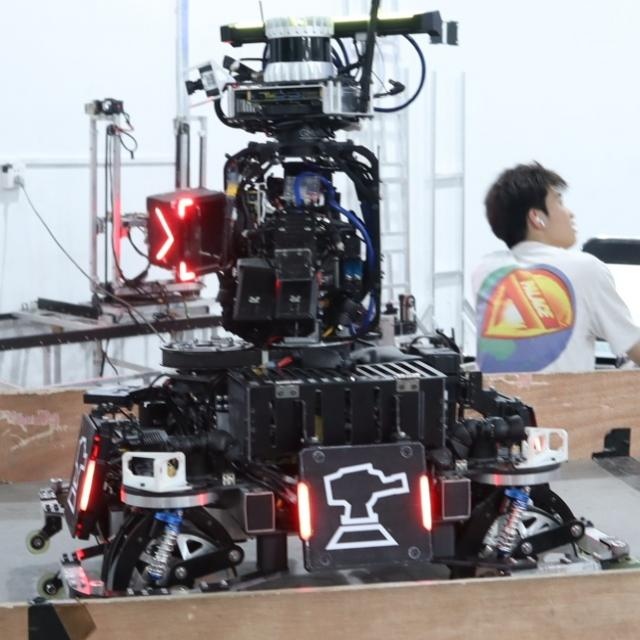Rs: (296, 462, 434, 551), (66, 432, 96, 514)
